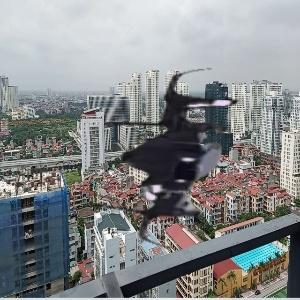drone: (78, 61, 275, 258)
